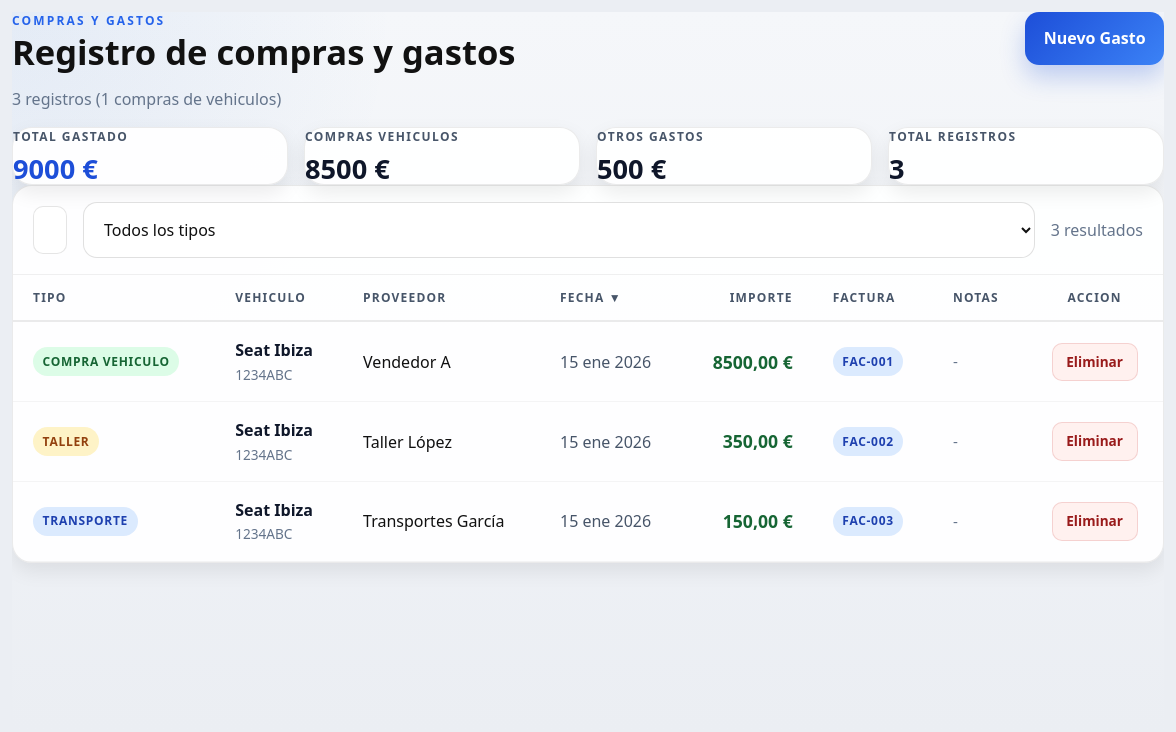
Test: PurchasesView › filters by expense type
Select "Taller" in the dropdown showing "Todos los tipos" at (559, 230), box [83,202,1035,258]
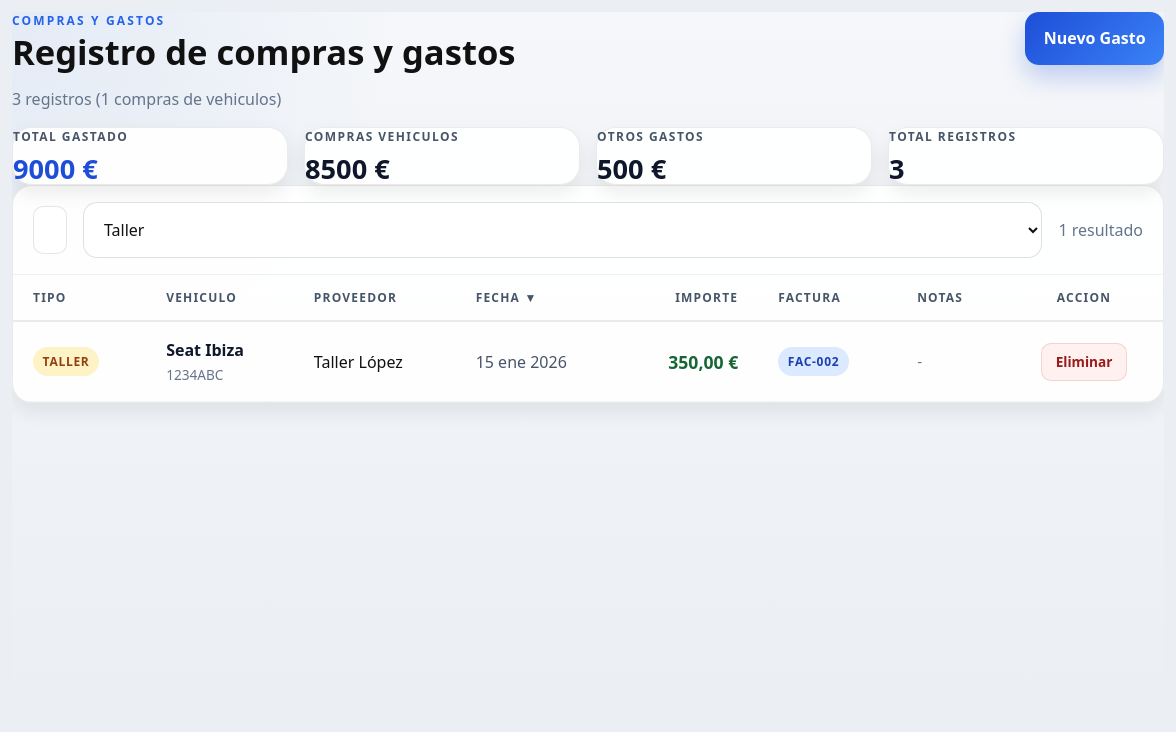
Expected: the text "1 resultado" is shown, [1058,218,1143,242]
